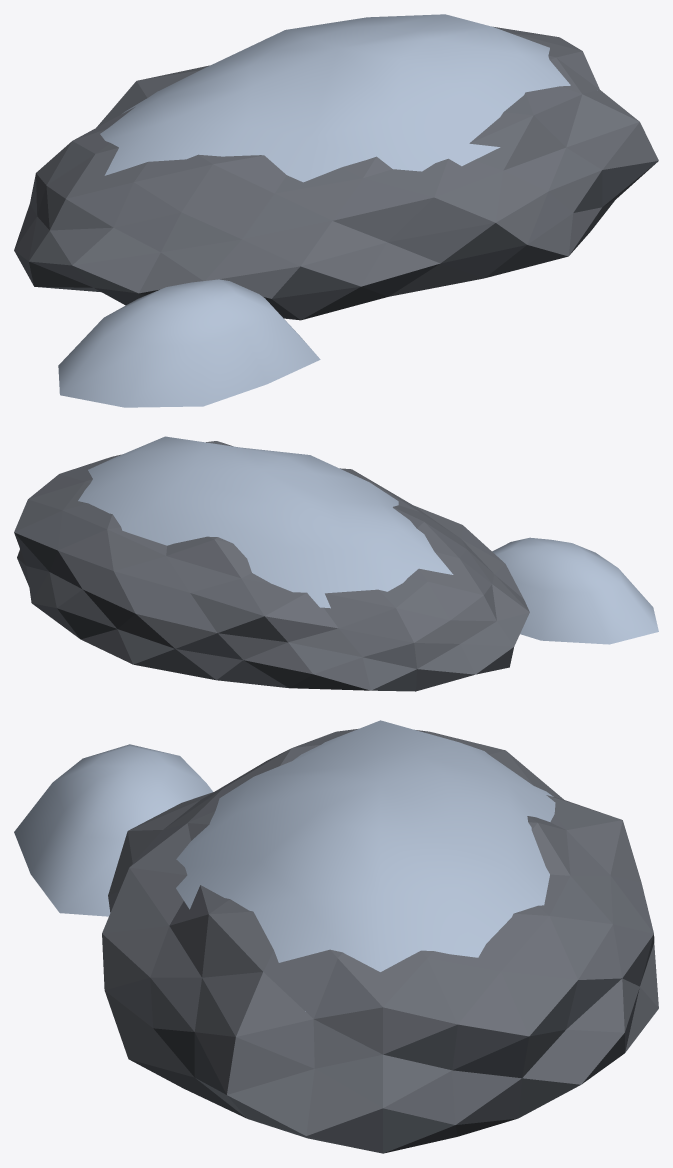
File: rock_d.glb
The picture shows the model from 3 angles, top to bottom: view 1: azimuth 30°, elevation 25°; view 2: azimuth 150°, elevation 25°; view 3: azimuth 270°, elevation 25°; orthographic projection. The views are drawn at different scales.
Visible parts, largest first — view 1: Rock; view 2: Rock; view 3: Rock.
Part boxes in pixels (x1=…): Rock: x1=14, y1=14, x2=658, y2=407; Rock: x1=14, y1=436, x2=658, y2=691; Rock: x1=14, y1=720, x2=658, y2=1153.
Bounding box in the file's own units: 2.69 × 0.7009 × 1.85.
